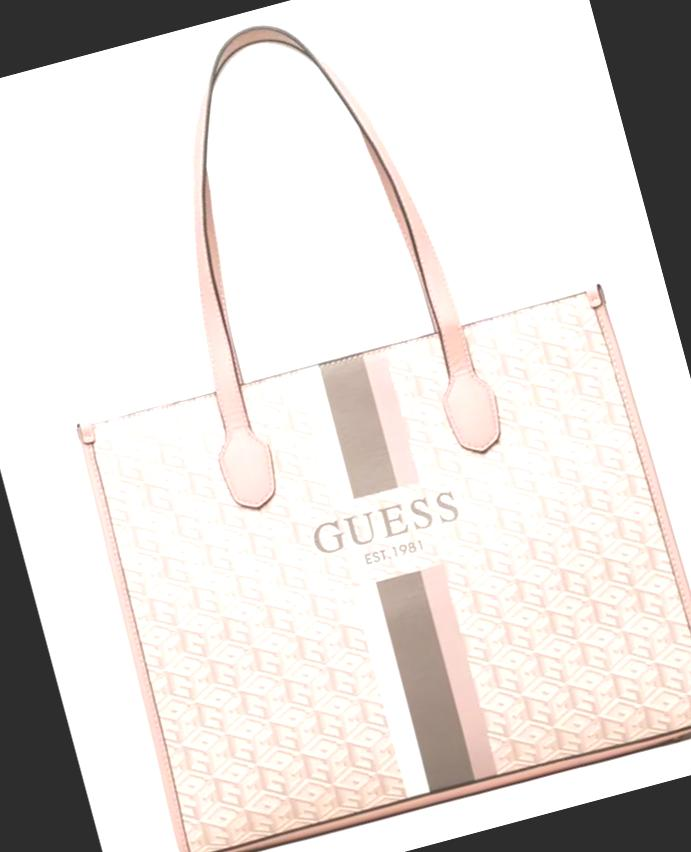GUESS: (308, 488, 460, 558)
